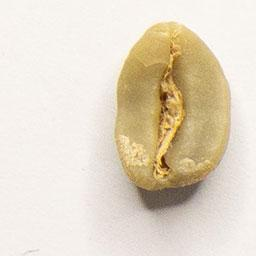longberry: (111, 17, 235, 200)
